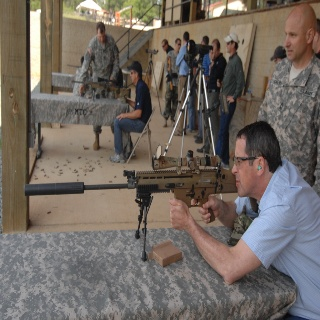rifle: (24, 145, 238, 262)
